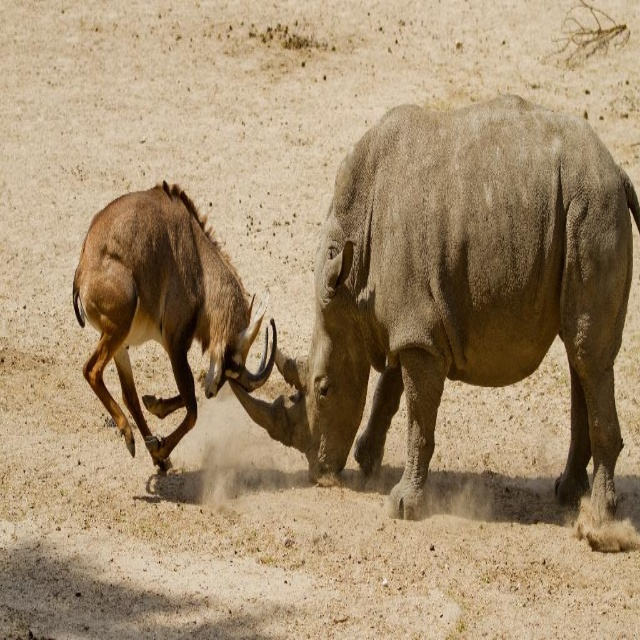Rhinoceros: (228, 93, 640, 528)
